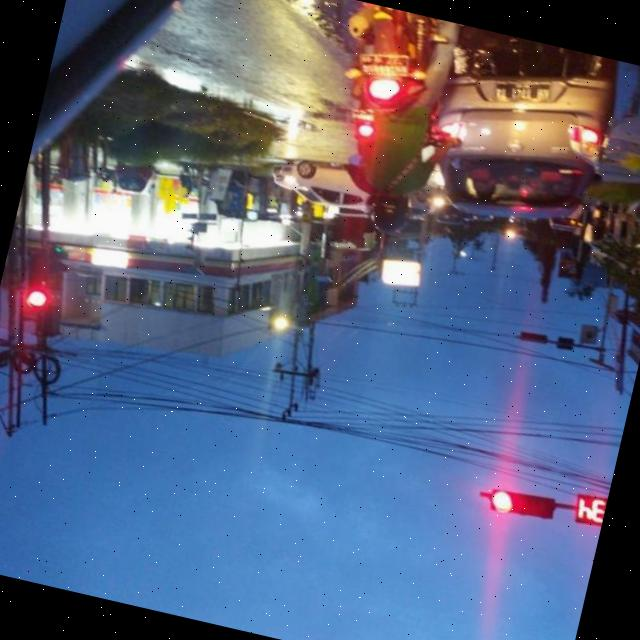red_light: (0, 242, 87, 373), (444, 465, 574, 541), (558, 482, 608, 540)
